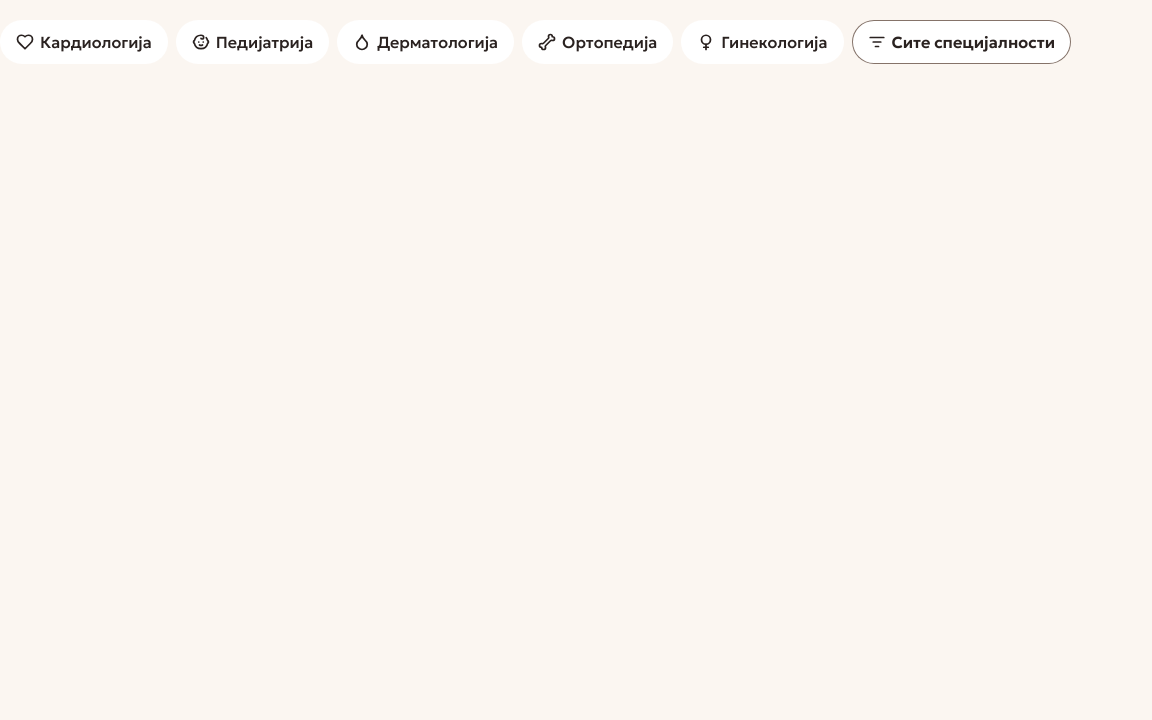
Test: HeroSpecialtyChips › „Сите“ opens every specialty in a sheet, filterable in either script
Click the link "Сите специјалности": click(961, 42) 852,20 -> 1071,64
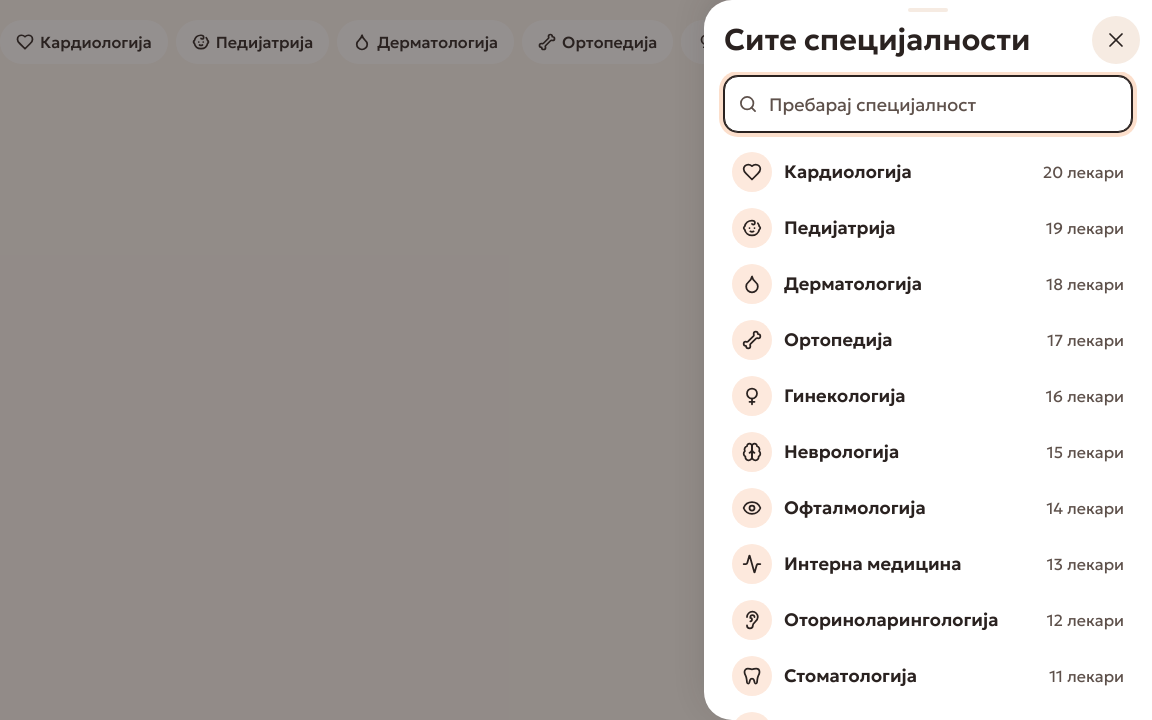
In the search field labelled "Пребарај специјалност": (928, 104) 724,76 -> 1132,132, type "kardio"
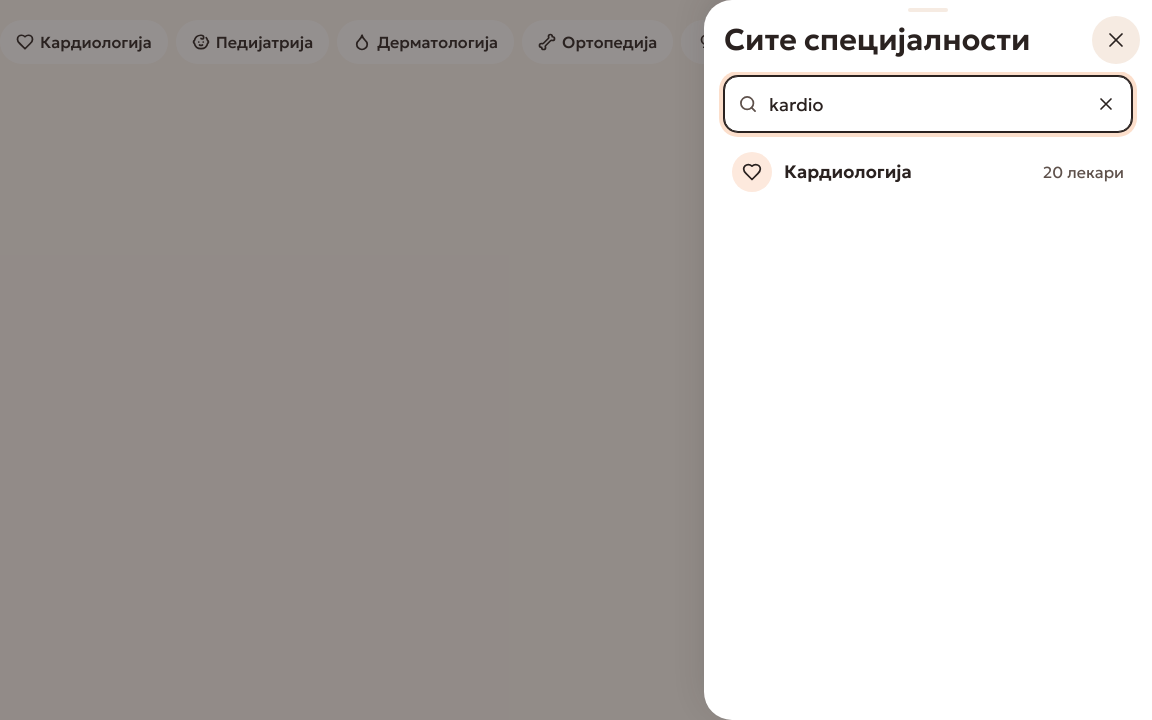
Expected: the links read "Кардиологија20 лекари", in this order, 724,144 -> 1132,200
Replace the text in the search field named "Пребарај специјалност" with "зззз": (928, 104) 724,76 -> 1132,132
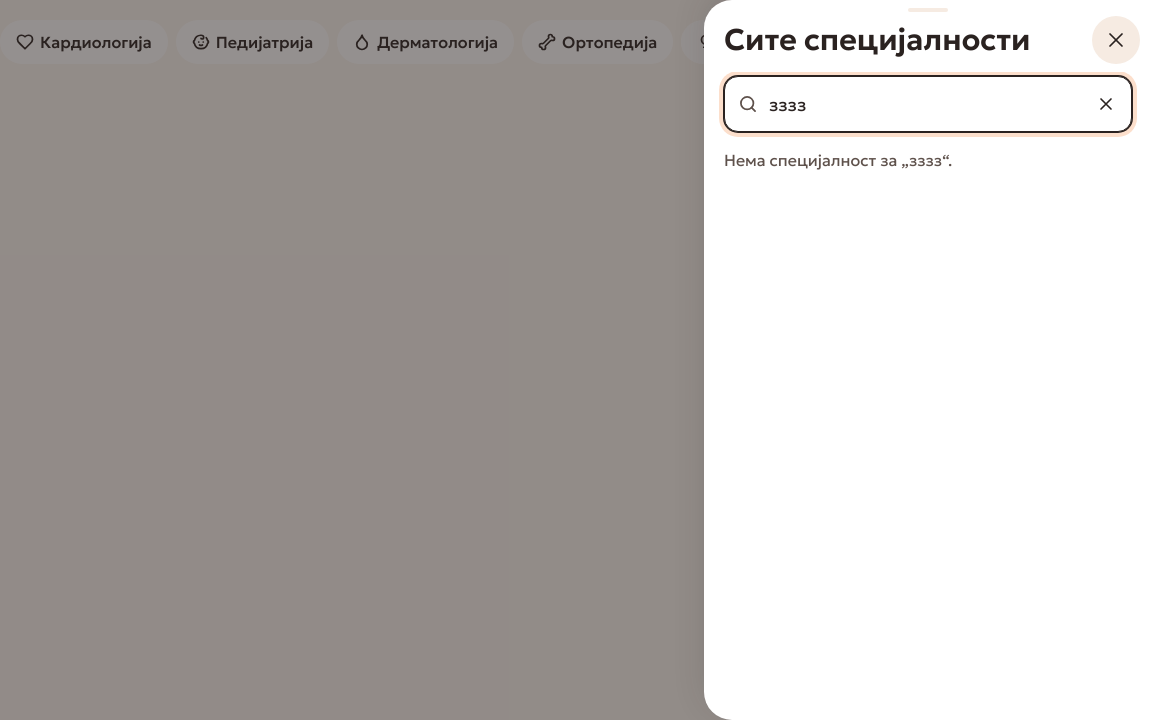
Expected: the message shows "зззз", 724,150 -> 952,170
Press Escape
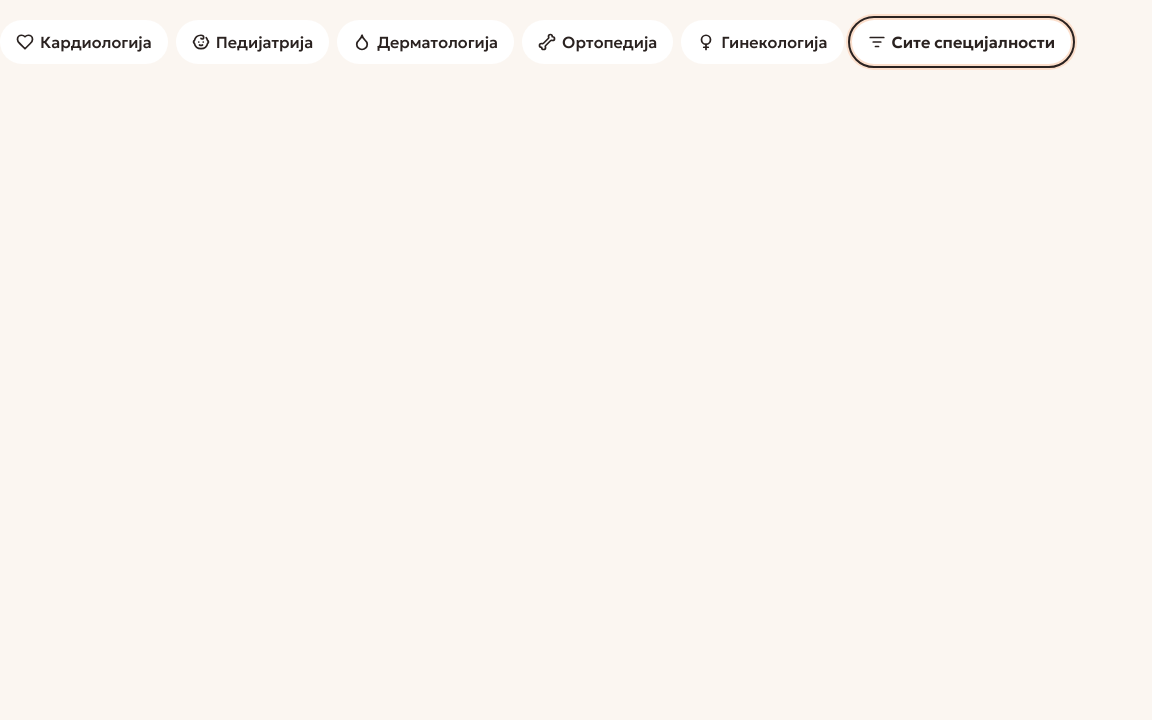
Expected: the dialog is gone
